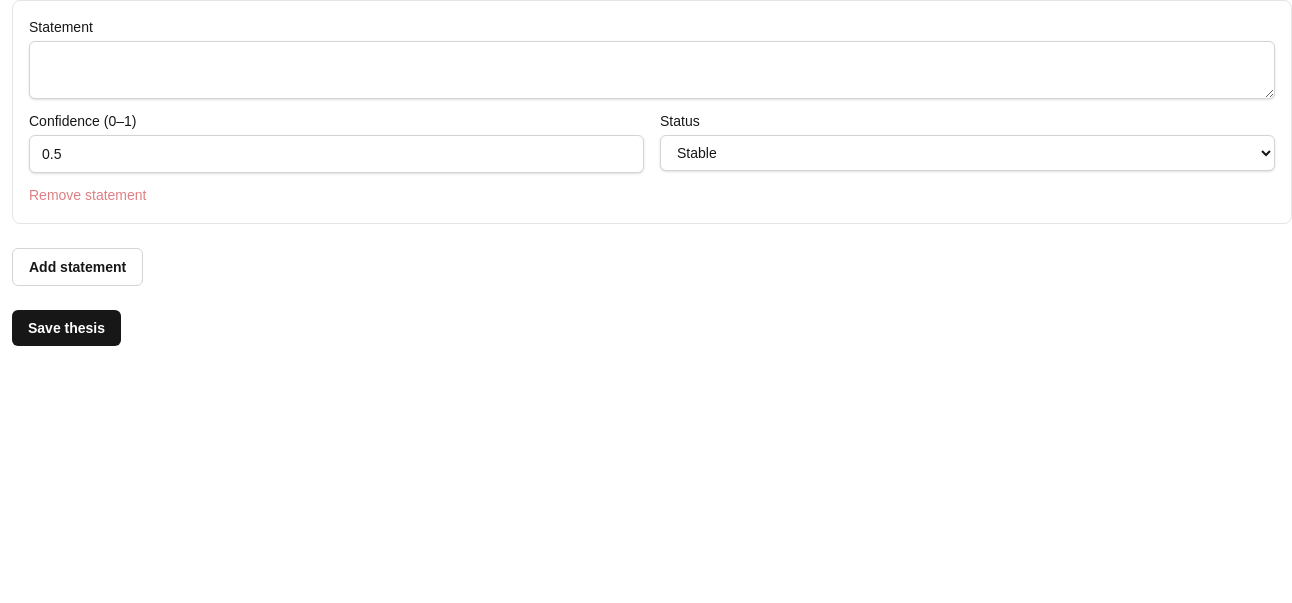
Scenario: ThesisForm › adds a new empty statement row when 'Add statement' is clicked
Click the button "Add statement": x=78, y=267 [12, 248, 143, 286]
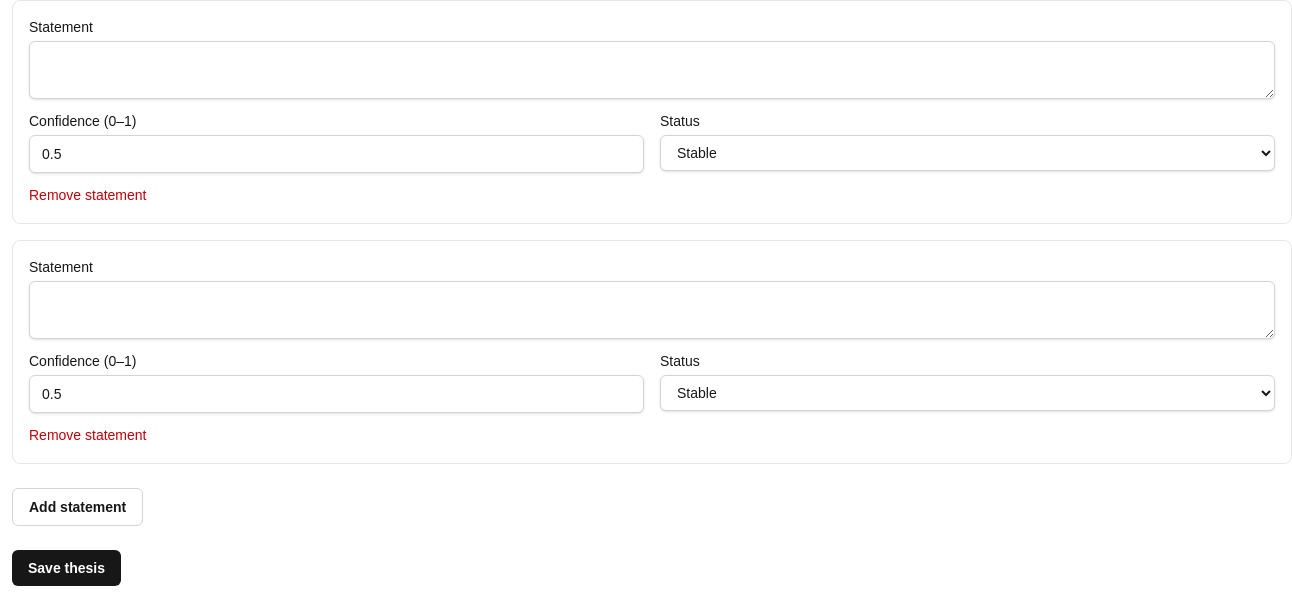
Check: the number of text boxes labelled "Statement" is 2, box [29, 41, 1275, 99]; [29, 281, 1275, 339]
